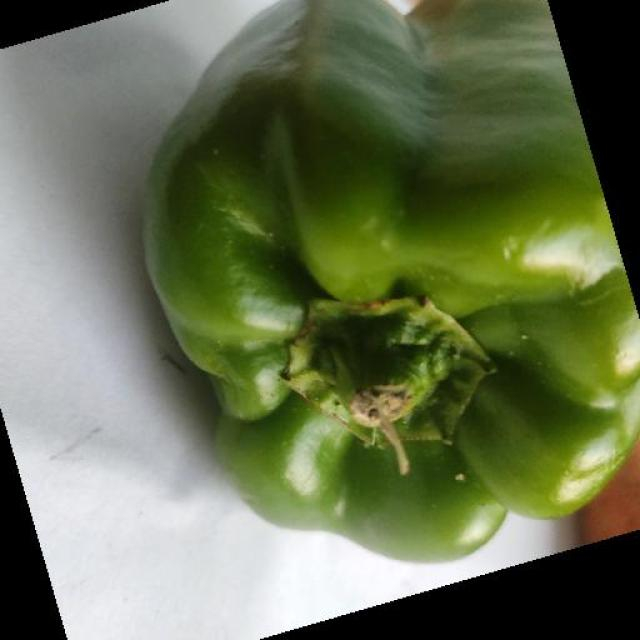Fresh_Capsicum: (130, 0, 640, 552)
